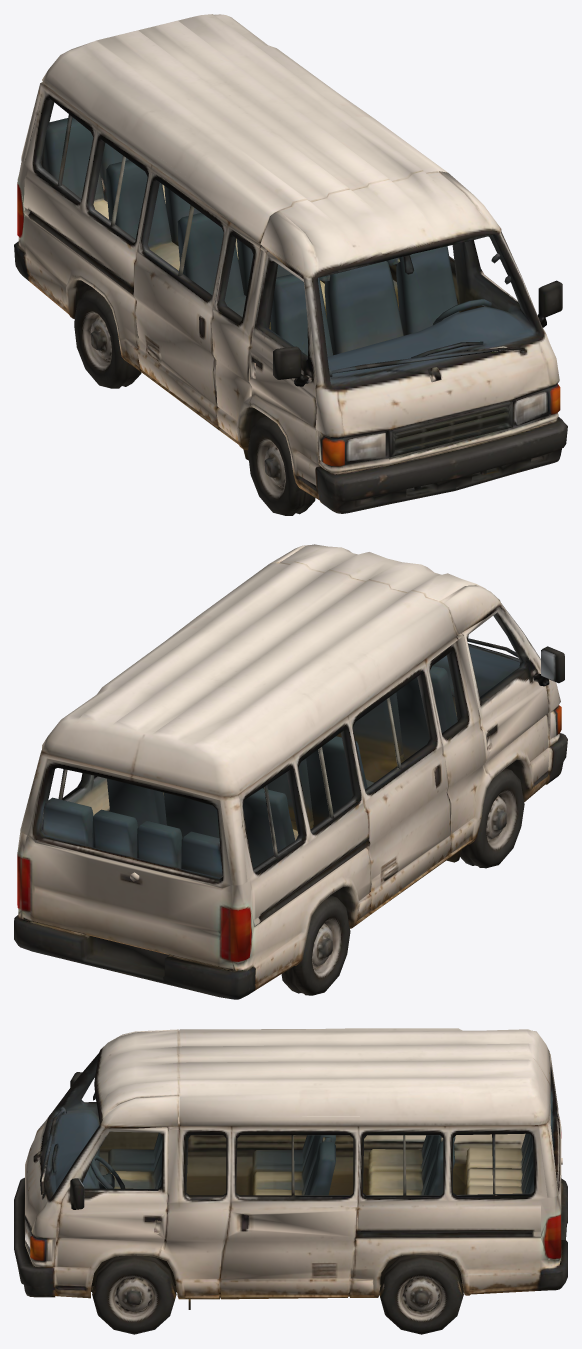
Rendered from bus.glb.
3 views of the same model, one above another, from view 1: azimuth 30°, elevation 25°; view 2: azimuth 150°, elevation 25°; view 3: azimuth 270°, elevation 25° (orthographic). The views are drawn at different scales.
Parts seen in each view (by area): view 1: tripo_node_d02fb10b-ff52-4863-9804-d32f3540cea5; view 2: tripo_node_d02fb10b-ff52-4863-9804-d32f3540cea5; view 3: tripo_node_d02fb10b-ff52-4863-9804-d32f3540cea5.
Part boxes in pixels (x1,y1,x2,y2): tripo_node_d02fb10b-ff52-4863-9804-d32f3540cea5: [14, 14, 567, 515]; tripo_node_d02fb10b-ff52-4863-9804-d32f3540cea5: [14, 544, 567, 999]; tripo_node_d02fb10b-ff52-4863-9804-d32f3540cea5: [14, 1028, 567, 1334].
Size of the model in its own units: 0.4841 by 0.4573 by 0.9778.
Materials: 1 (1 with a texture image).
